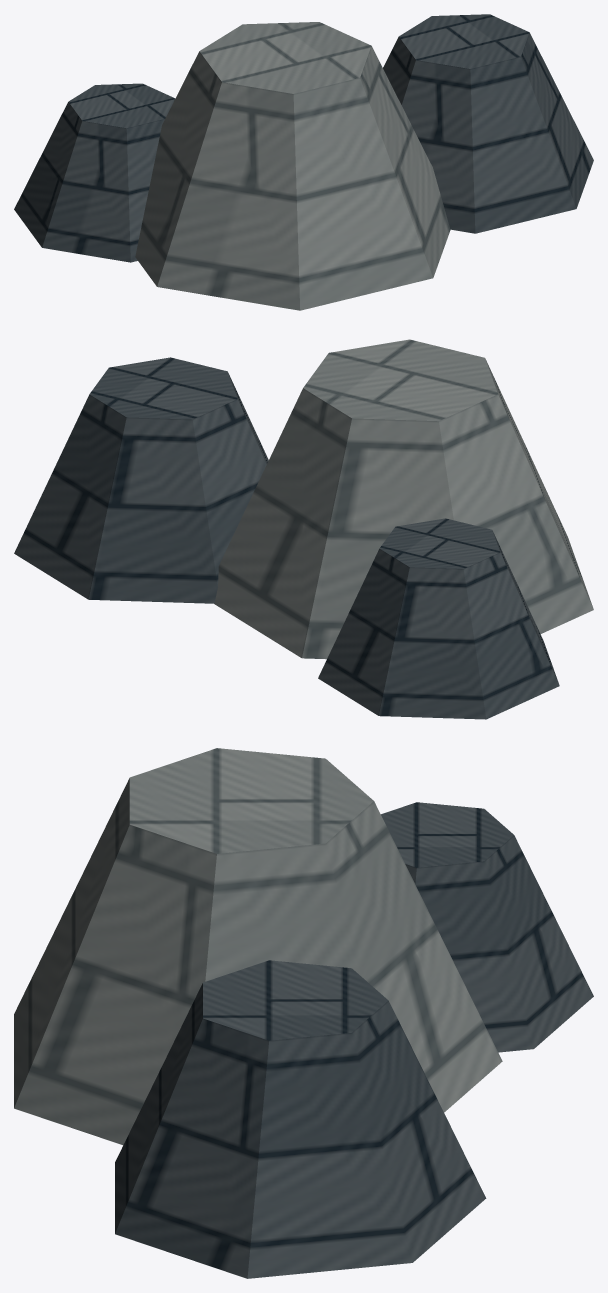
The model's file is Rock.glb.
3 renders of one model, top to bottom at view 1: azimuth 30°, elevation 25°; view 2: azimuth 150°, elevation 25°; view 3: azimuth 270°, elevation 25°, orthographic. The views are drawn at different scales.
Parts seen in each view (by area): view 1: Faceted rock, Faceted rock.001, Faceted rock.002; view 2: Faceted rock, Faceted rock.001, Faceted rock.002; view 3: Faceted rock, Faceted rock.001, Faceted rock.002.
Part boxes in pixels (x1,y1,x2,y2): Faceted rock: (135, 22, 450, 310); Faceted rock.001: (383, 14, 593, 233); Faceted rock.002: (14, 83, 175, 262); Faceted rock: (214, 339, 593, 659); Faceted rock.001: (14, 357, 268, 603); Faceted rock.002: (318, 518, 559, 719); Faceted rock: (14, 748, 502, 1144); Faceted rock.001: (115, 960, 486, 1278); Faceted rock.002: (381, 802, 593, 1052).
Bounding box in the file's own units: 2.21 × 0.7756 × 1.53.
Materials: 2 (2 with a texture image).
